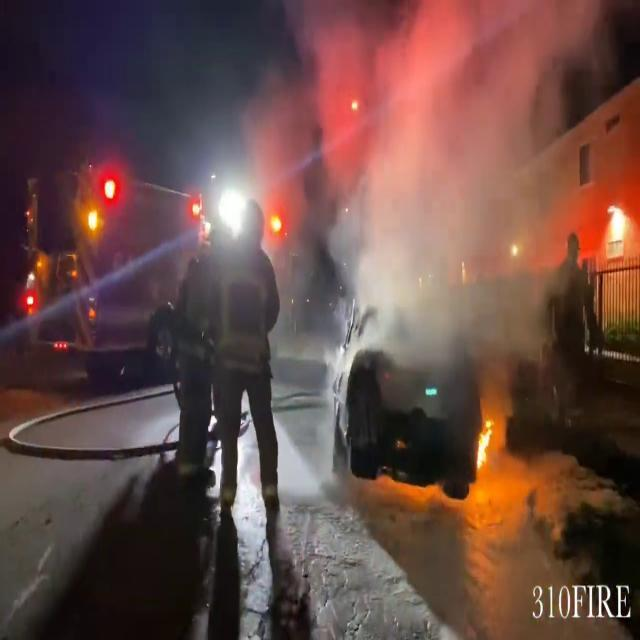Fire: (472, 412, 500, 479), (603, 198, 631, 258)
Smoke: (291, 0, 584, 370)
